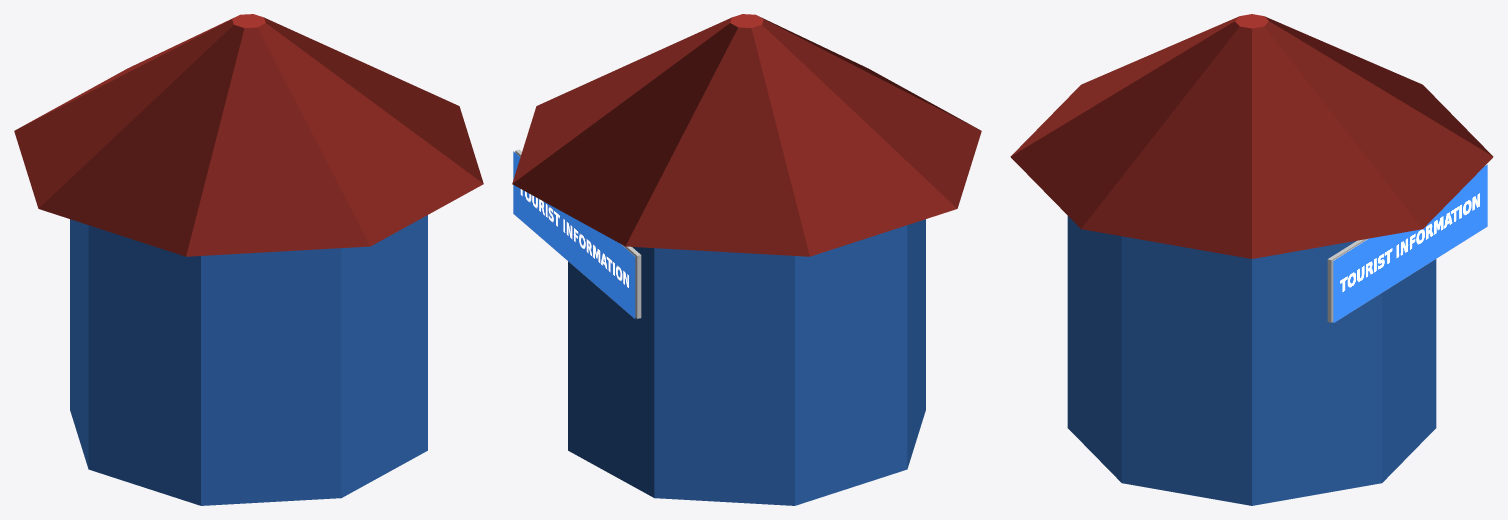
Rendered from wf_touristinfo.glb.
3 renders of one model, left to right at view 1: azimuth 30°, elevation 25°; view 2: azimuth 150°, elevation 25°; view 3: azimuth 270°, elevation 25°, orthographic.
Visible parts, largest first — view 1: wf_touristinfo_lod0; view 2: wf_touristinfo_lod0; view 3: wf_touristinfo_lod0.
Part boxes in pixels (x1,y1,x2,y2): wf_touristinfo_lod0: [14, 14, 483, 505]; wf_touristinfo_lod0: [512, 14, 981, 505]; wf_touristinfo_lod0: [1010, 14, 1493, 505].
Size of what is drawn, in the model's own units: 4.2 by 3.9 by 4.2.
Materials: 5 (1 with a texture image).
